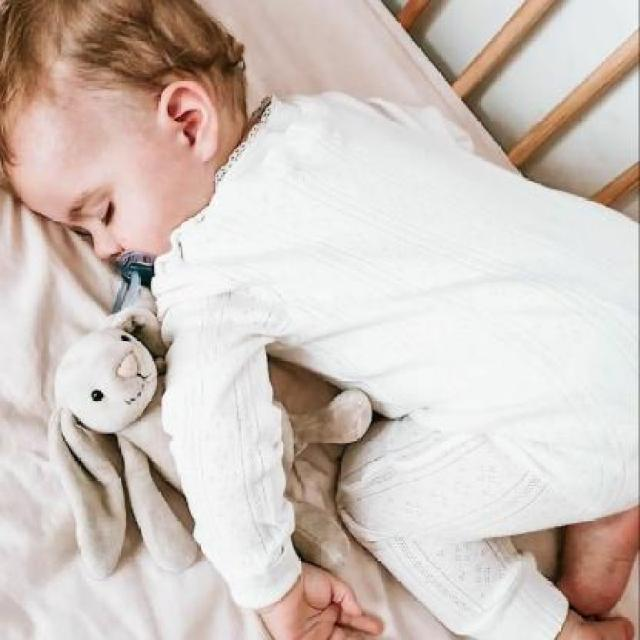baby: (3, 4, 640, 638)
